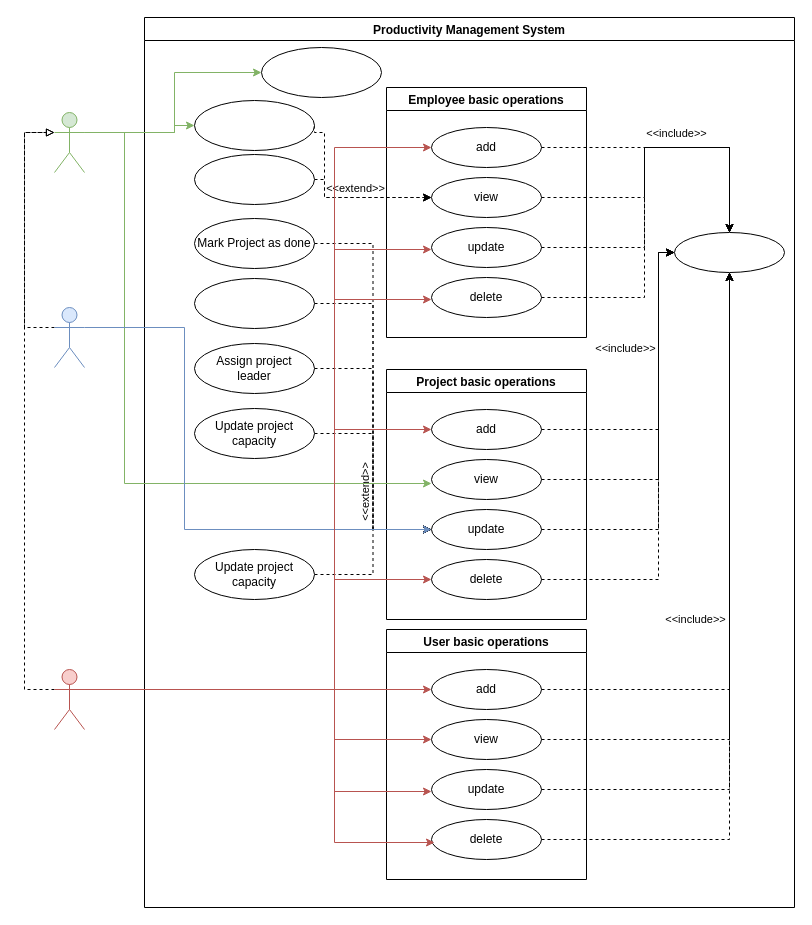
This 812x925 diagram has some shape labels left out. The shapes that lost their labels are listed below. From the top down, each one's box as (x1, y1, x2, y2) in pixels, then its label:
(260, 46, 382, 98): view statistics
(54, 112, 84, 172): User
(194, 100, 314, 150): view cross-utilized employees
(194, 154, 314, 204): view over-utilized employees
(674, 232, 784, 272): login
(194, 278, 314, 328): Assign employee to project
(54, 306, 84, 368): Project Leader
(54, 668, 84, 730): Admin
